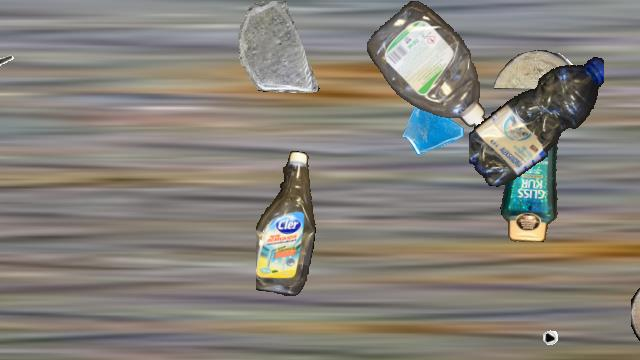glass: (233, 1, 325, 93), (401, 94, 467, 160)
metal: (505, 290, 565, 350), (0, 42, 17, 100)
plastic: (469, 50, 603, 190), (367, 1, 487, 131), (496, 99, 568, 241), (256, 151, 316, 295)
wood: (494, 50, 578, 88), (631, 281, 640, 359)
